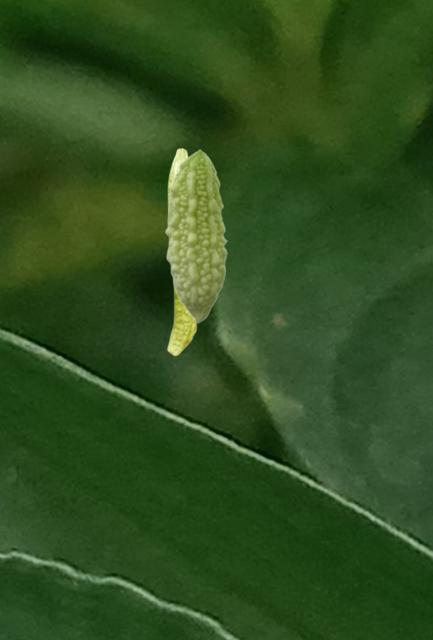ampalaya: (164, 149, 228, 324), (166, 146, 197, 358)
